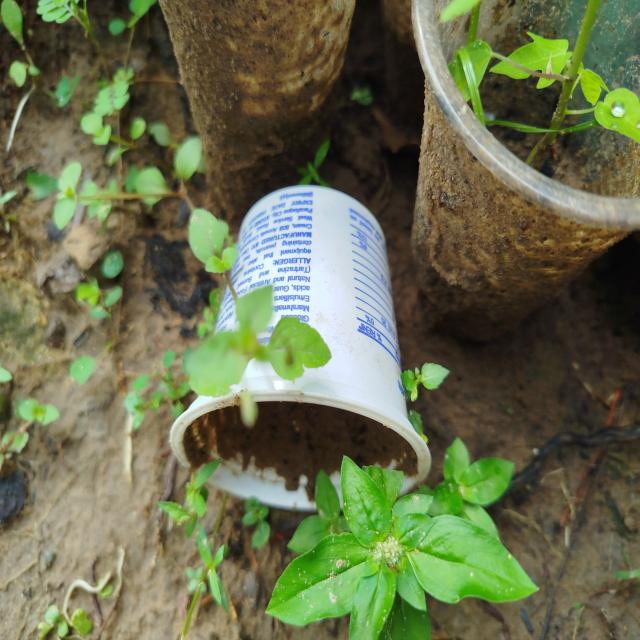plastic: (163, 168, 456, 526)
